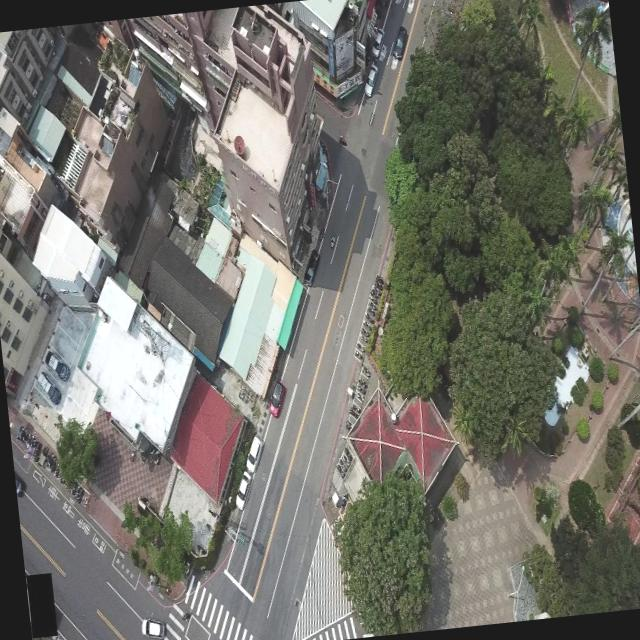car: (35, 366, 61, 406), (232, 468, 255, 510), (242, 434, 266, 474), (266, 378, 288, 417), (390, 24, 410, 60), (139, 615, 166, 640), (360, 64, 378, 97)
